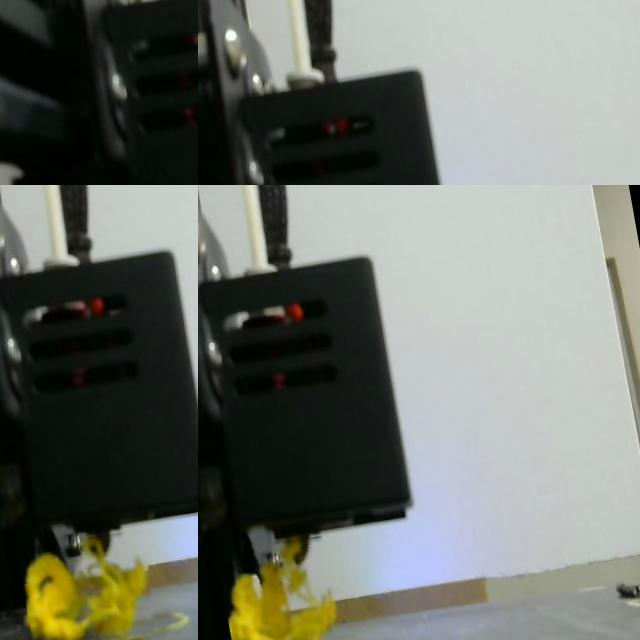spaghetti: (15, 524, 162, 640), (228, 538, 332, 640)
